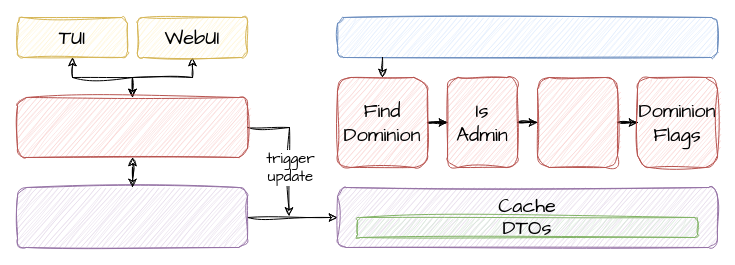
This 735x265 diagram has some shape labels left out. Each missing label, with the centre of its shape:
"Controller" belongs at point (132, 127).
"Database" belongs at point (132, 217).
"Events" belongs at point (527, 37).
"Has Privilege or not" belongs at point (577, 122).
